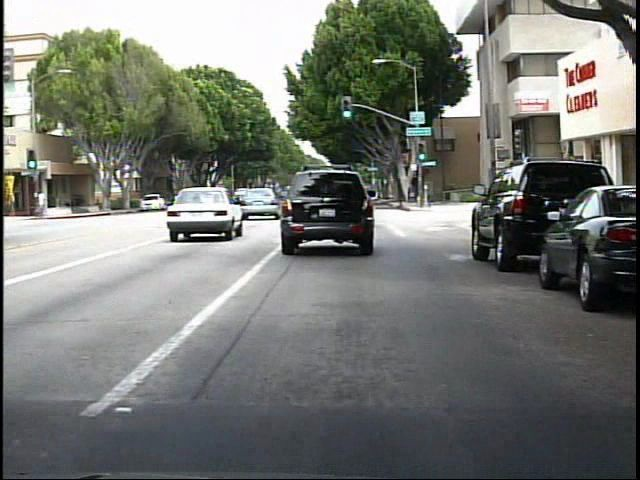person: (40, 187, 51, 218)
